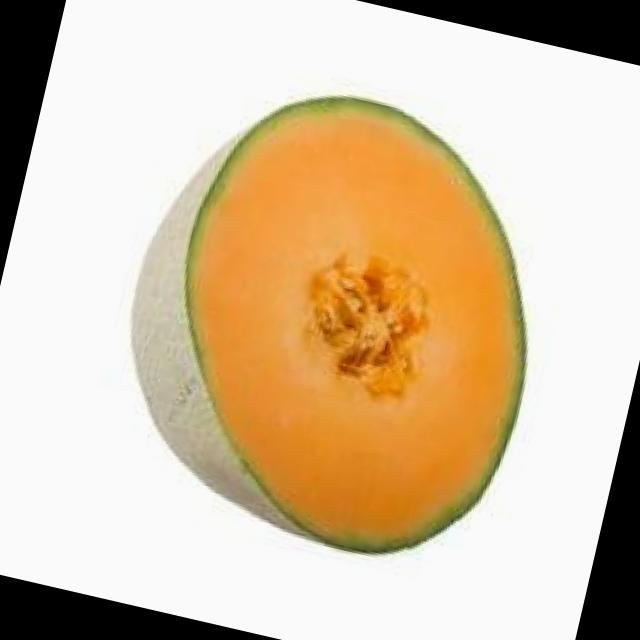cantaloupe: (87, 55, 579, 582)
